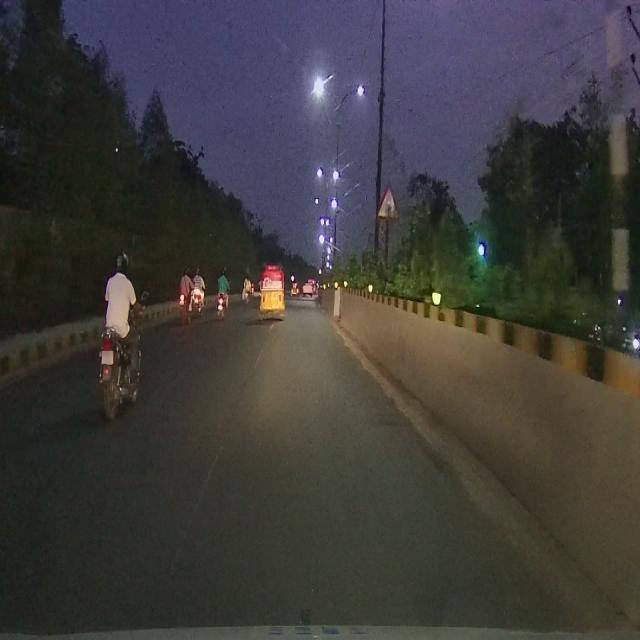auto ahead at: (262, 266, 282, 316)
motorcycle ahead at: (96, 323, 146, 424)
